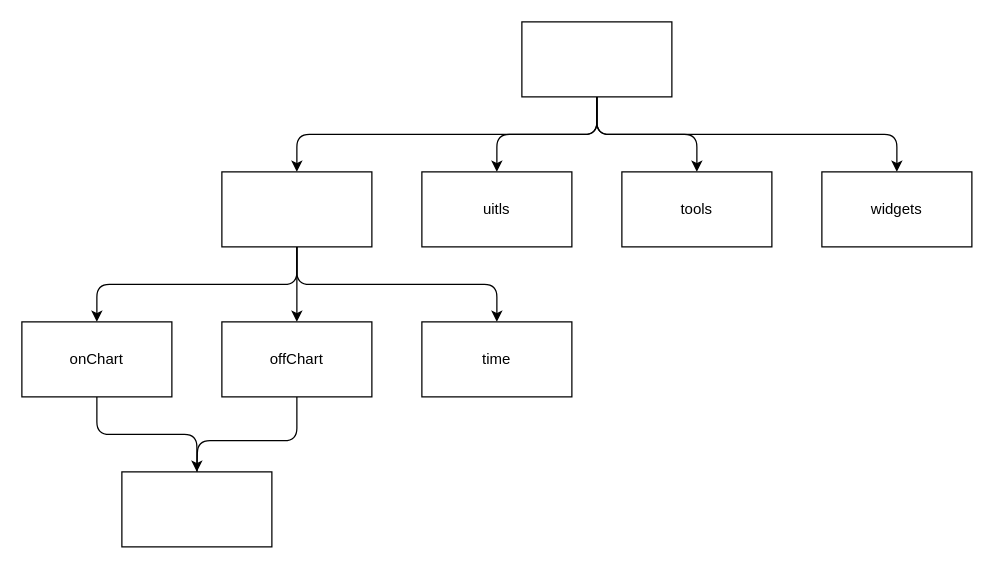
Some shapes in this 994 by 569 pixel diagram are drawn without their labels. Each missing label, with the centre of its shape:
core: point (596, 59)
main: point (296, 209)
scale: point (196, 509)
